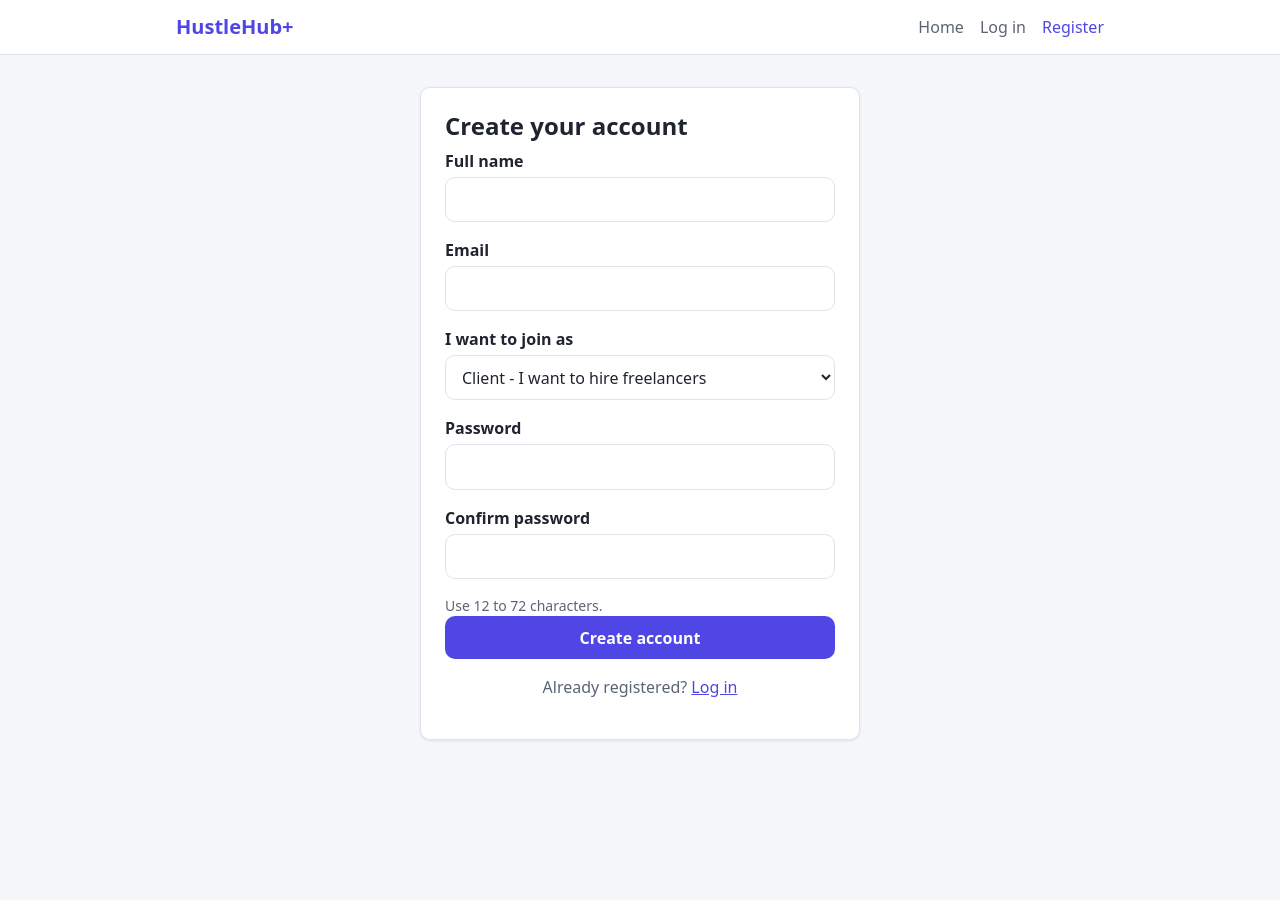
Test: RegisterPage › shows the API error when the email is already registered
Type "Thandi Nkosi" into the field labelled "Full name" at (640, 199), box [445, 177, 835, 222]
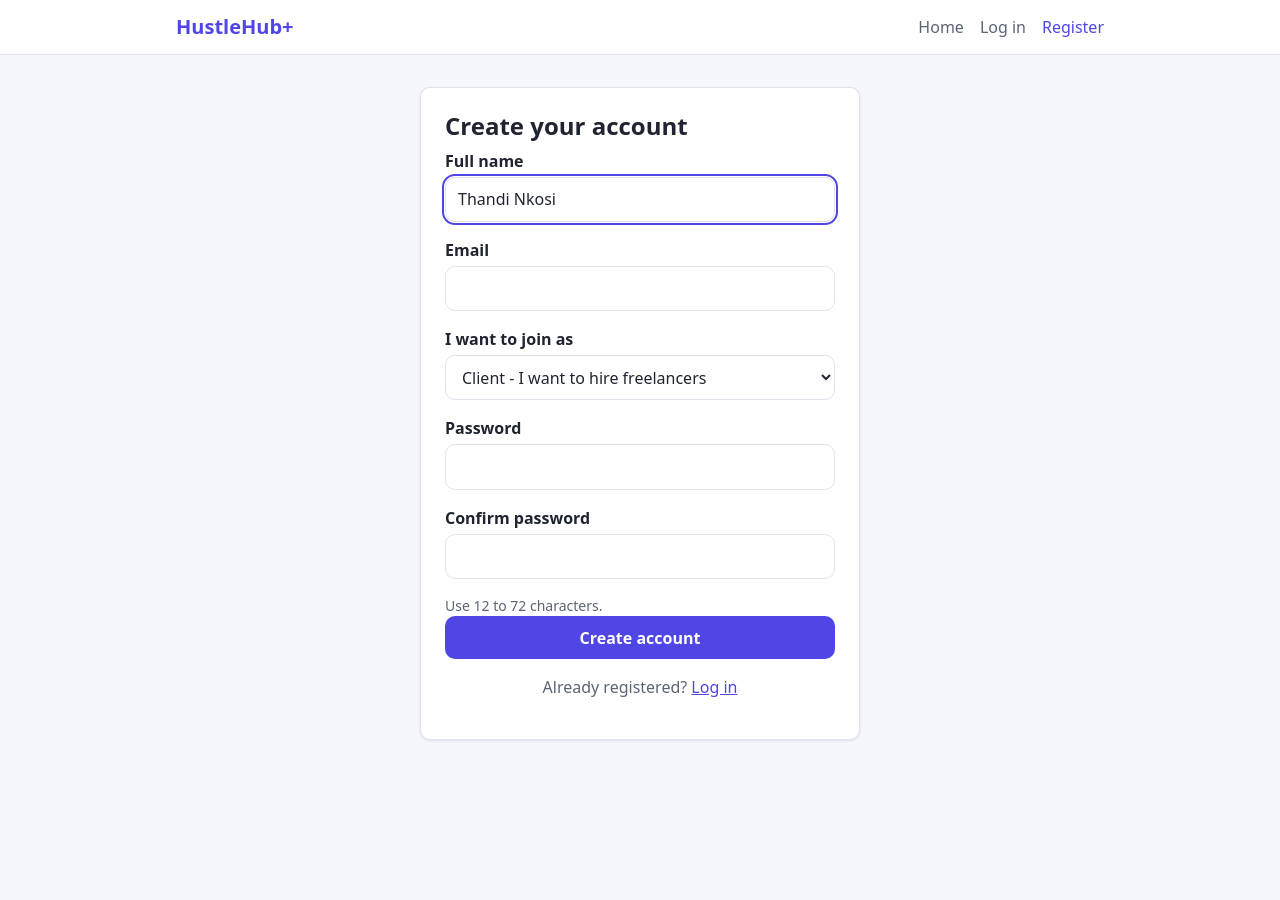
Type "thandi@example.com" into the field labelled "Email" at (640, 289), box [445, 266, 835, 311]
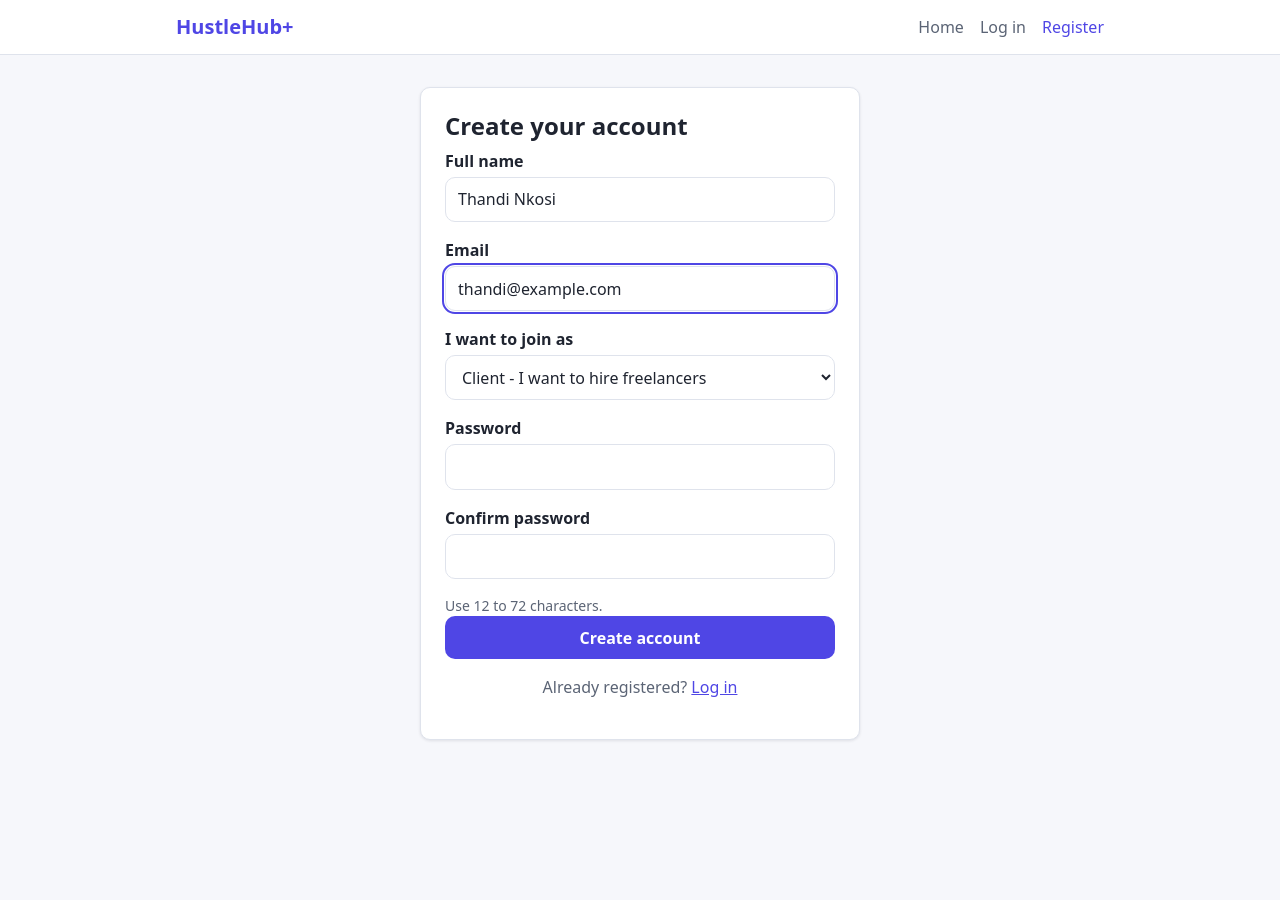
Type "Passw0rd!123" into the password field labelled "Password" at (640, 467), box [445, 444, 835, 490]
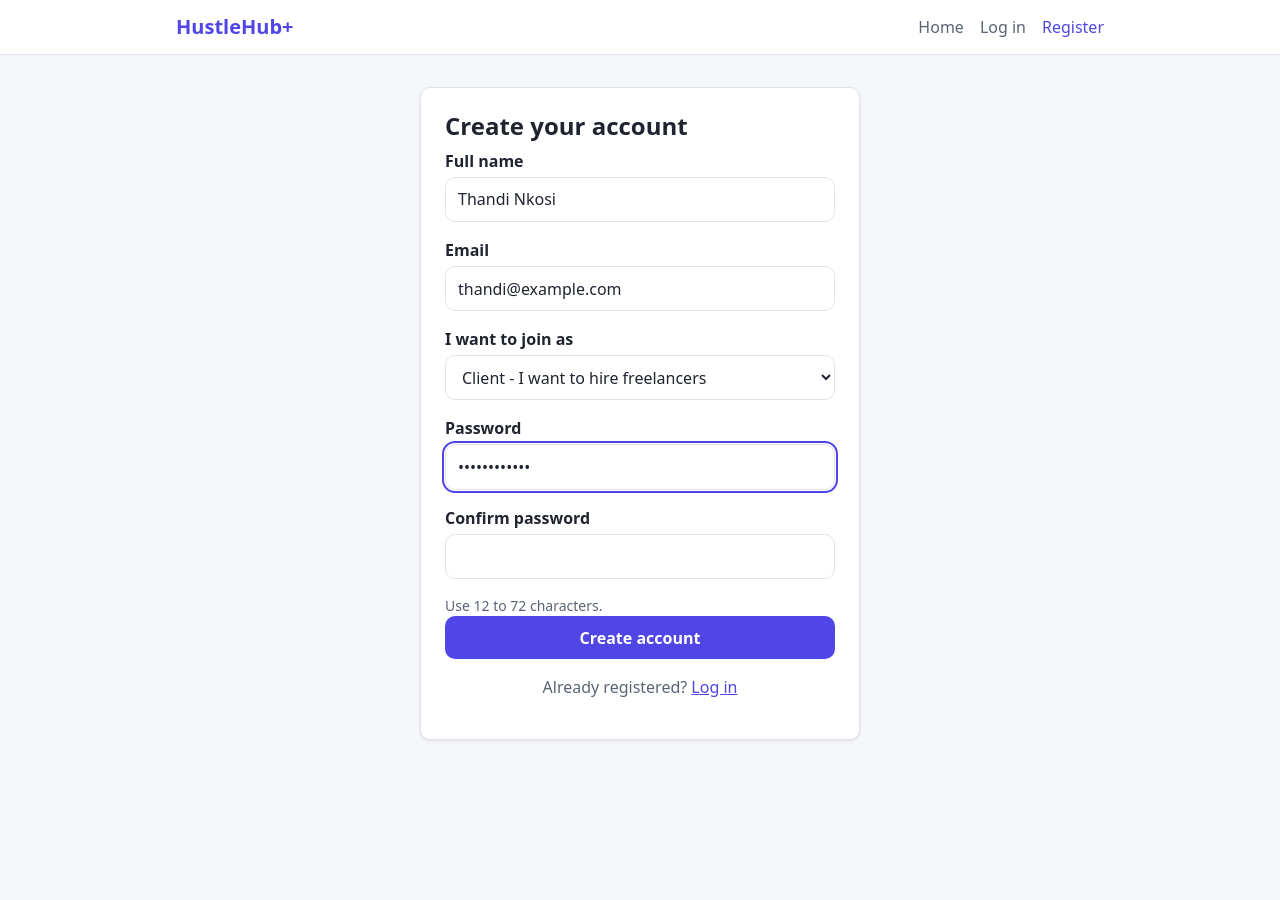
Type "Passw0rd!123" into the password field labelled "Confirm password" at (640, 556), box [445, 534, 835, 579]
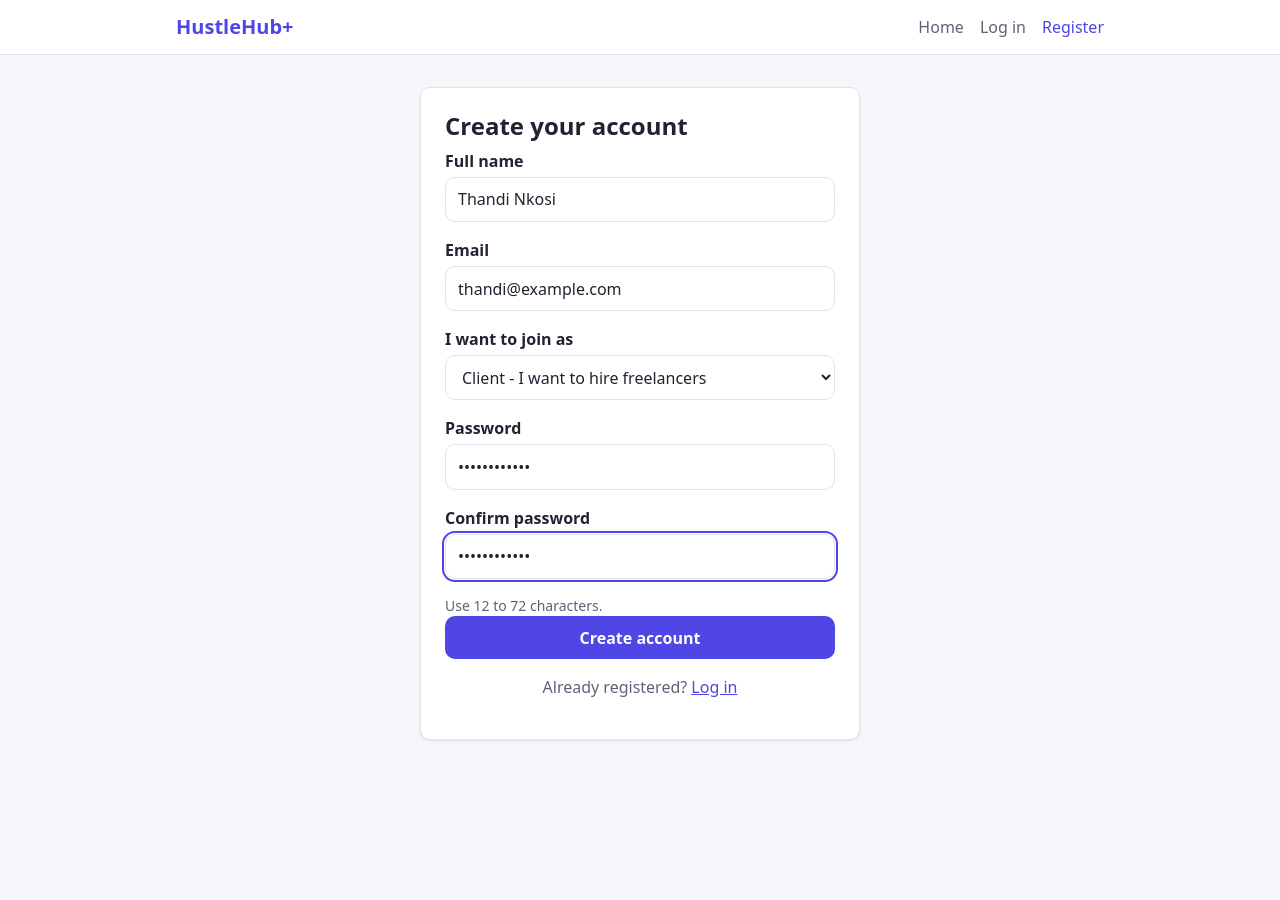
Click the button "Create account" at (640, 638), box [445, 616, 835, 659]
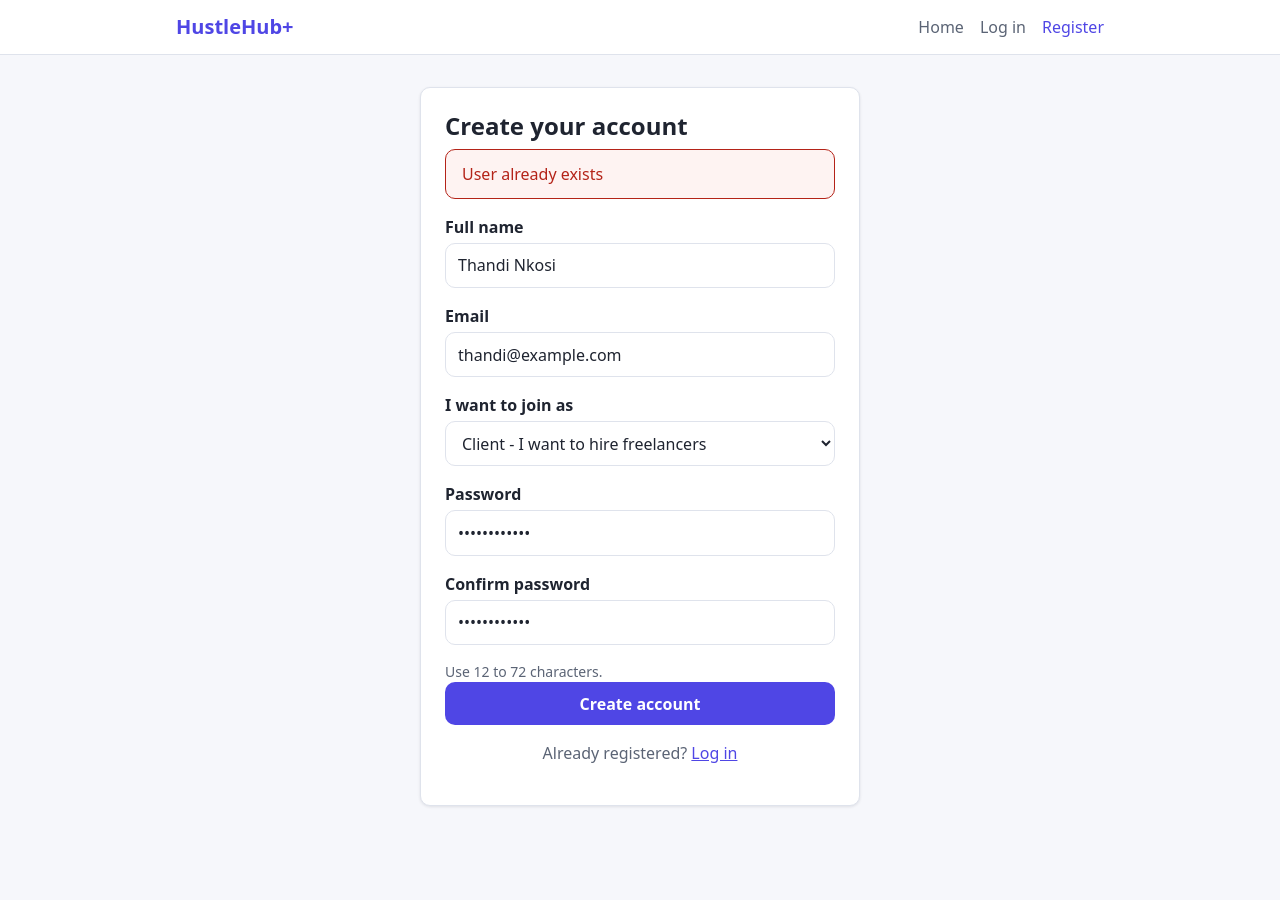
Now the message reads "User already exists", box [462, 163, 603, 185]
